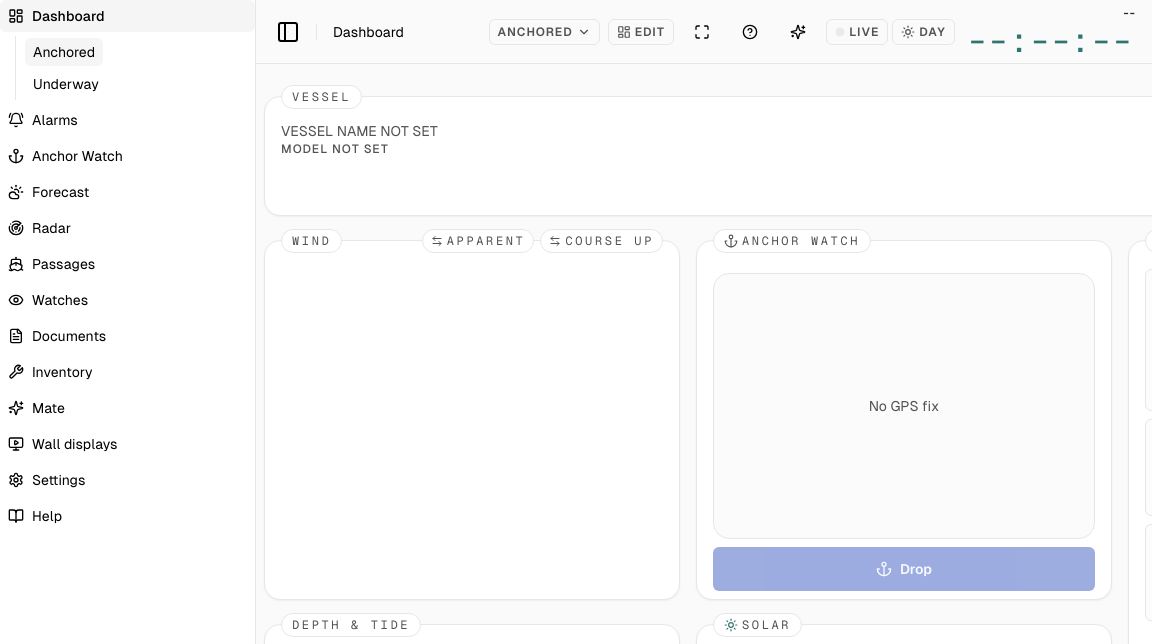
Test: App sidebar navigation › opens the Mate sheet from the header button, without leaving the dashboard
The width and height of the screenshot is (1152, 644).
Expected: the text "Depth & Tide" is shown, [292,619,410,631]
Step 1. Click the button named "Ask Mate" → [798, 32], box [778,12,818,52]
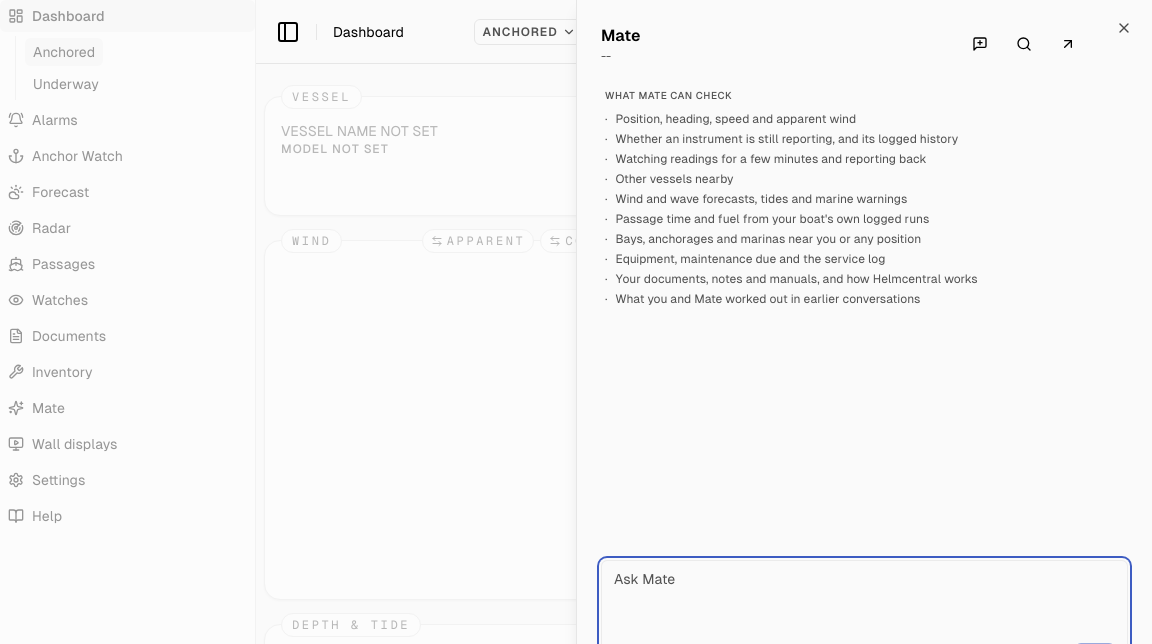
Expected: the text "Depth & Tide" is shown, [292,619,410,631]
Result: the heading "Mate" is shown at [601,24,641,48]
